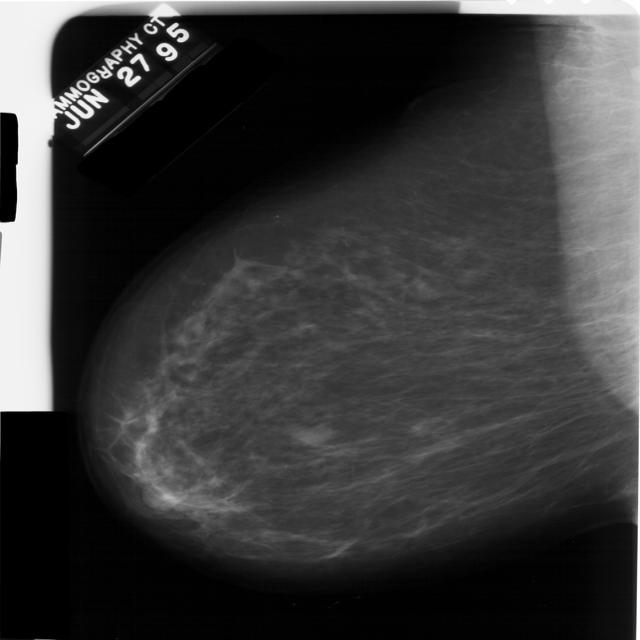tumour: (288, 424, 334, 446)
